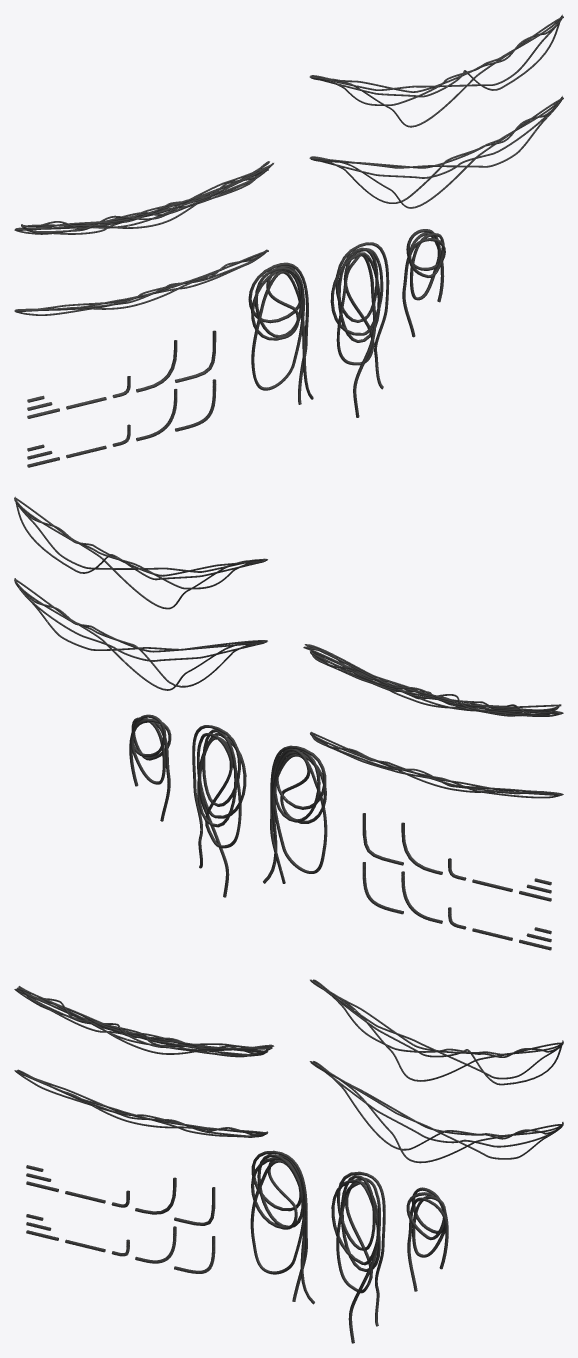
File: electrical_wiring.glb
3 renders of one model, top to bottom at view 1: azimuth 30°, elevation 25°; view 2: azimuth 150°, elevation 25°; view 3: azimuth 330°, elevation 25°, orthographic.
Parts seen in each view (by area): view 1: Wire.004, Wire.003, Wire.001, Wire, Wire.006, Wire.002, Wire.005; view 2: Wire.004, Wire.003, Wire.001, Wire, Wire.006, Wire.002, Wire.005; view 3: Wire.004, Wire.003, Wire.001, Wire, Wire.006, Wire.002, Wire.005.
Boxes of the visible parts, x1,y1,x2,y2 form: Wire.004: [330, 242, 389, 417]; Wire.003: [248, 262, 313, 404]; Wire.001: [14, 161, 273, 234]; Wire: [309, 14, 563, 127]; Wire.006: [309, 96, 563, 208]; Wire.002: [14, 249, 268, 315]; Wire.005: [402, 229, 445, 337]; Wire.004: [192, 725, 246, 897]; Wire.003: [263, 745, 327, 883]; Wire.001: [303, 644, 563, 716]; Wire: [14, 496, 267, 609]; Wire.006: [14, 578, 267, 690]; Wire.002: [310, 731, 563, 798]; Wire.005: [129, 714, 171, 821]; Wire.004: [331, 1171, 385, 1343]; Wire.003: [250, 1150, 314, 1304]; Wire.001: [14, 986, 274, 1057]; Wire: [310, 979, 563, 1085]; Wire.006: [309, 1061, 563, 1163]; Wire.002: [14, 1069, 268, 1137]; Wire.005: [406, 1187, 448, 1291].
Size of the model in its own units: 70.7 by 43.2 by 2.1.
Materials: 1 (1 with a texture image).
